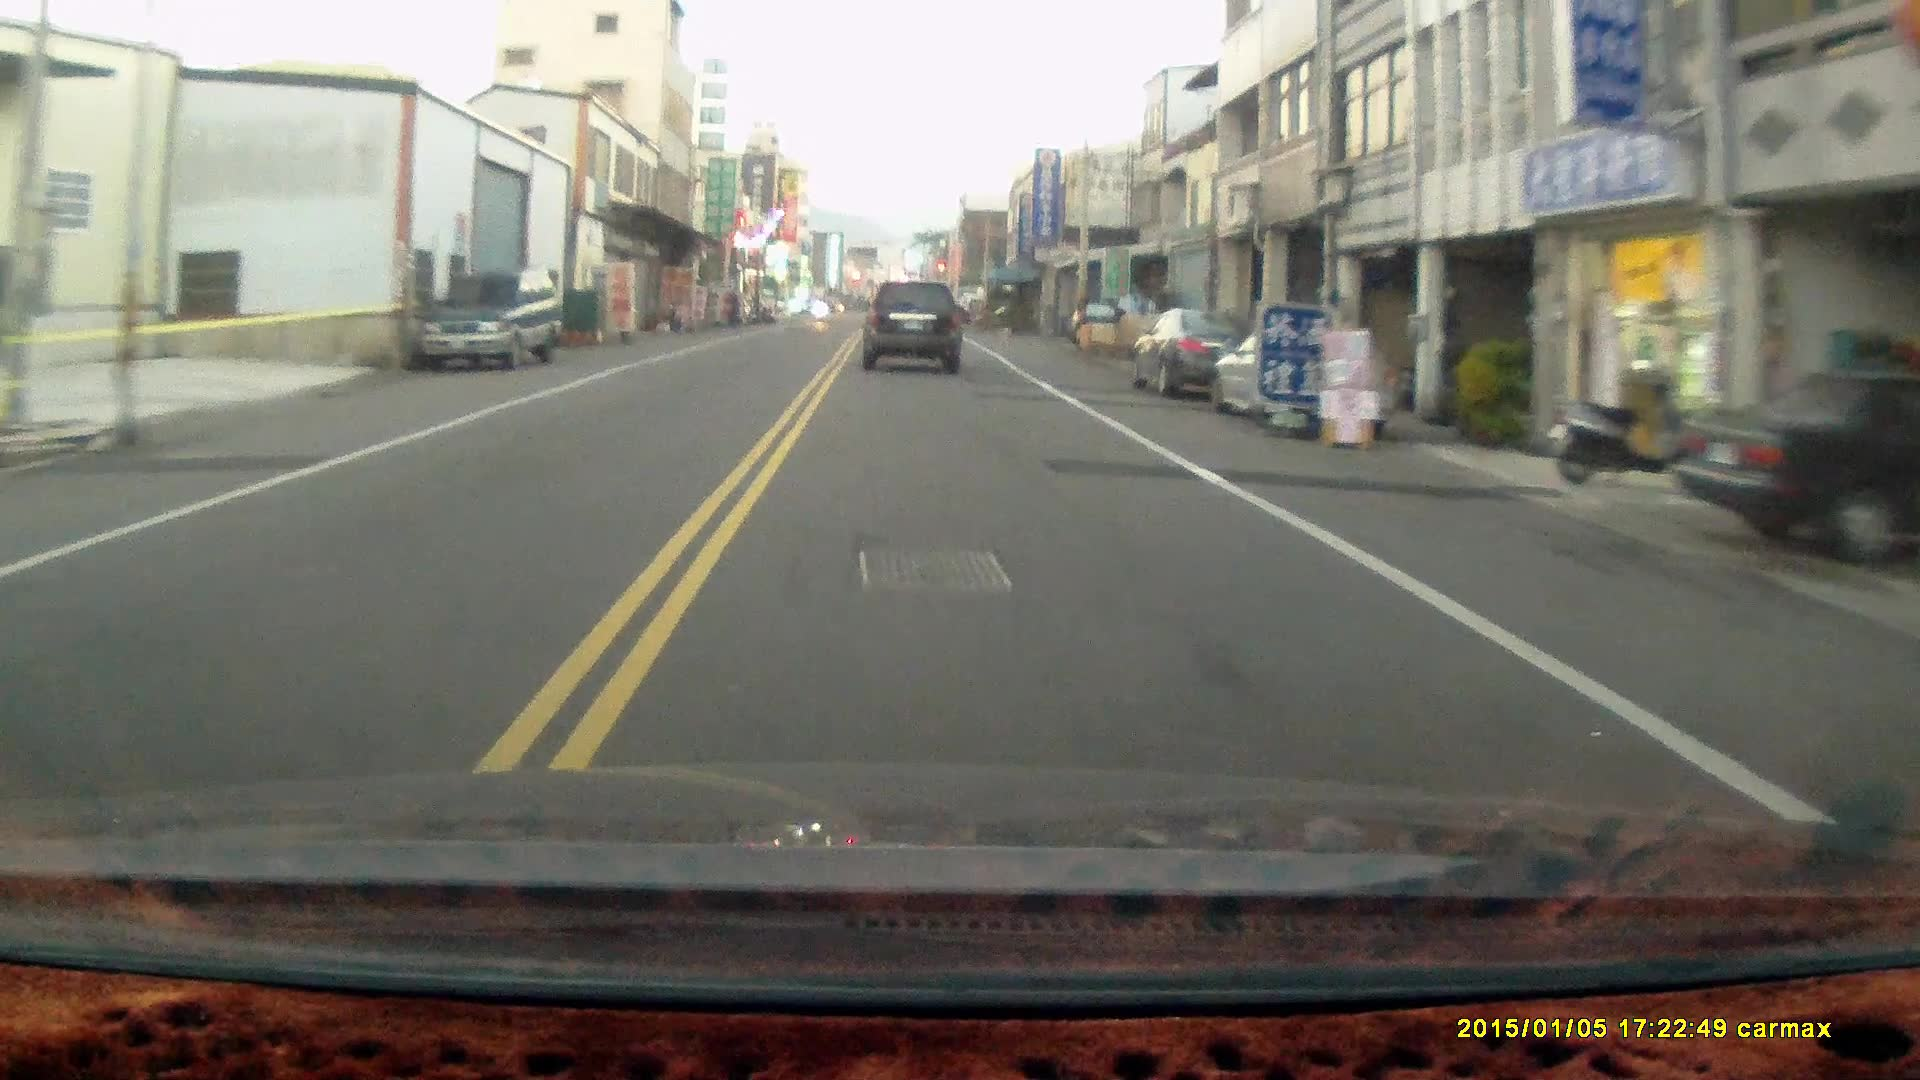vehicle: (1660, 372, 1920, 562), (1211, 332, 1403, 446), (419, 269, 567, 373), (1127, 305, 1274, 400), (861, 278, 965, 373)
